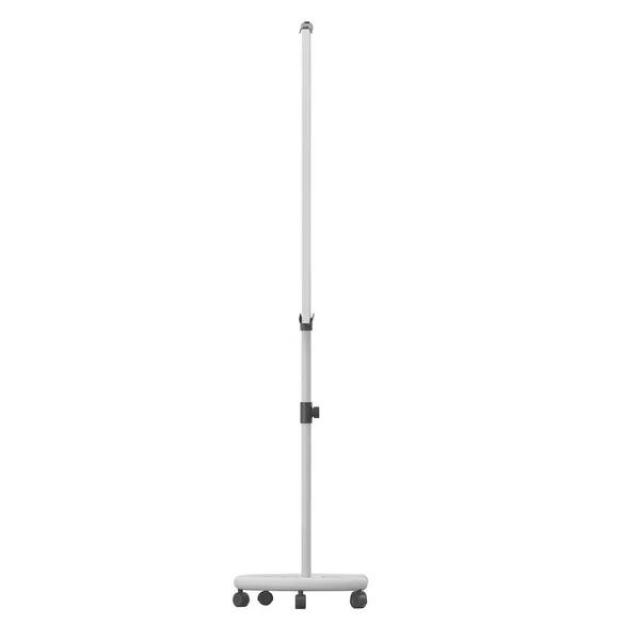Pole: (233, 21, 369, 611)
